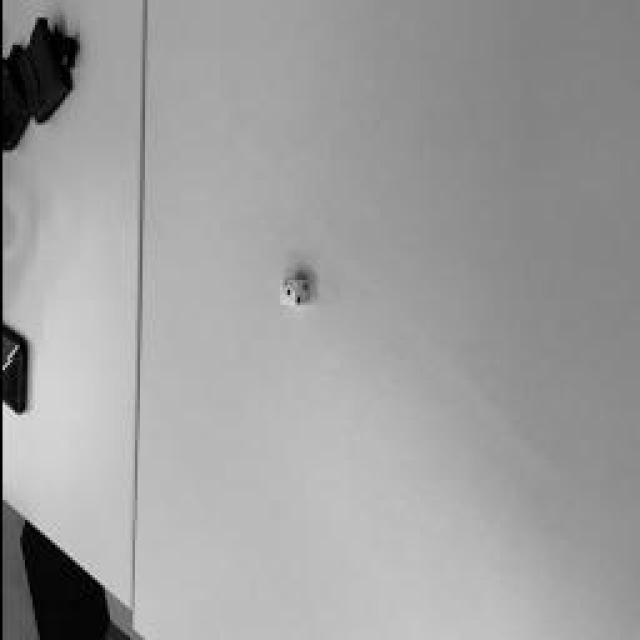dice_1: (278, 277, 294, 305)
